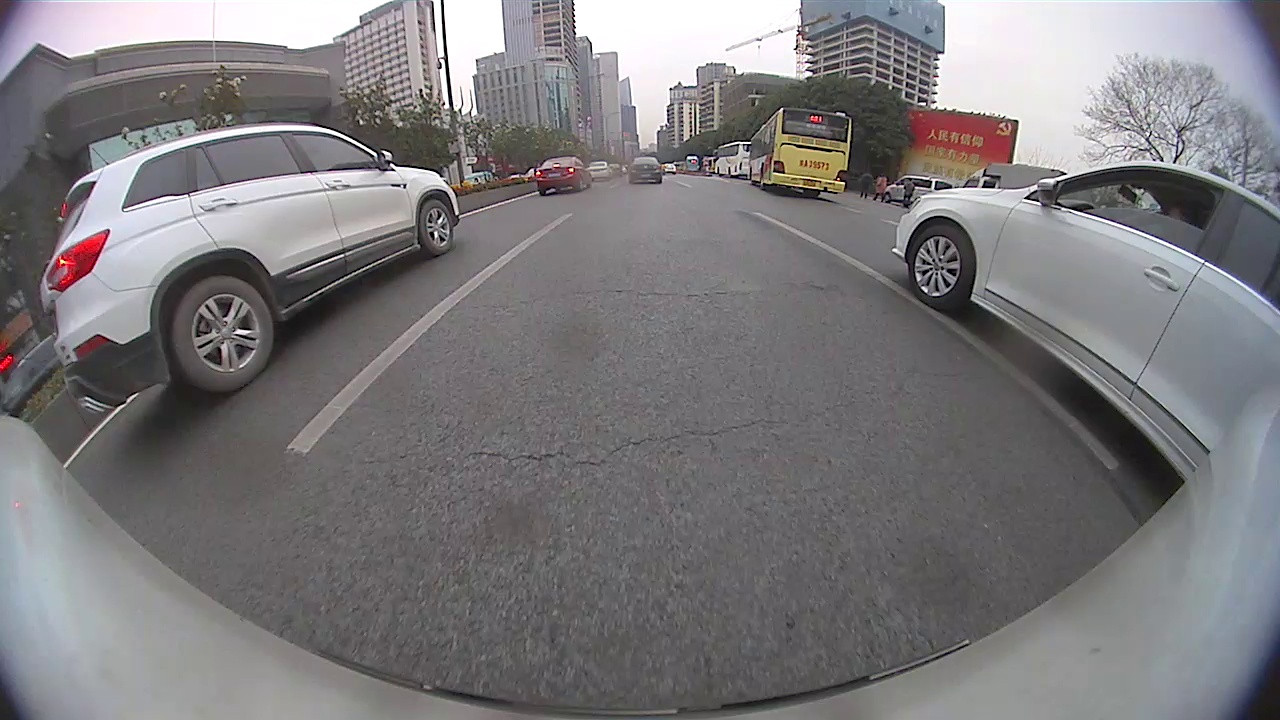bus: (752, 107, 856, 199), (710, 141, 751, 178)
car: (893, 163, 1279, 490), (39, 122, 461, 415), (885, 170, 954, 209), (532, 154, 588, 196), (627, 154, 665, 187), (587, 159, 613, 183)
front: (906, 225, 976, 304), (418, 199, 454, 254)
person: (903, 177, 913, 210), (861, 170, 871, 198), (876, 173, 885, 202)
rear: (172, 276, 274, 395)
truck: (962, 162, 1069, 194)
